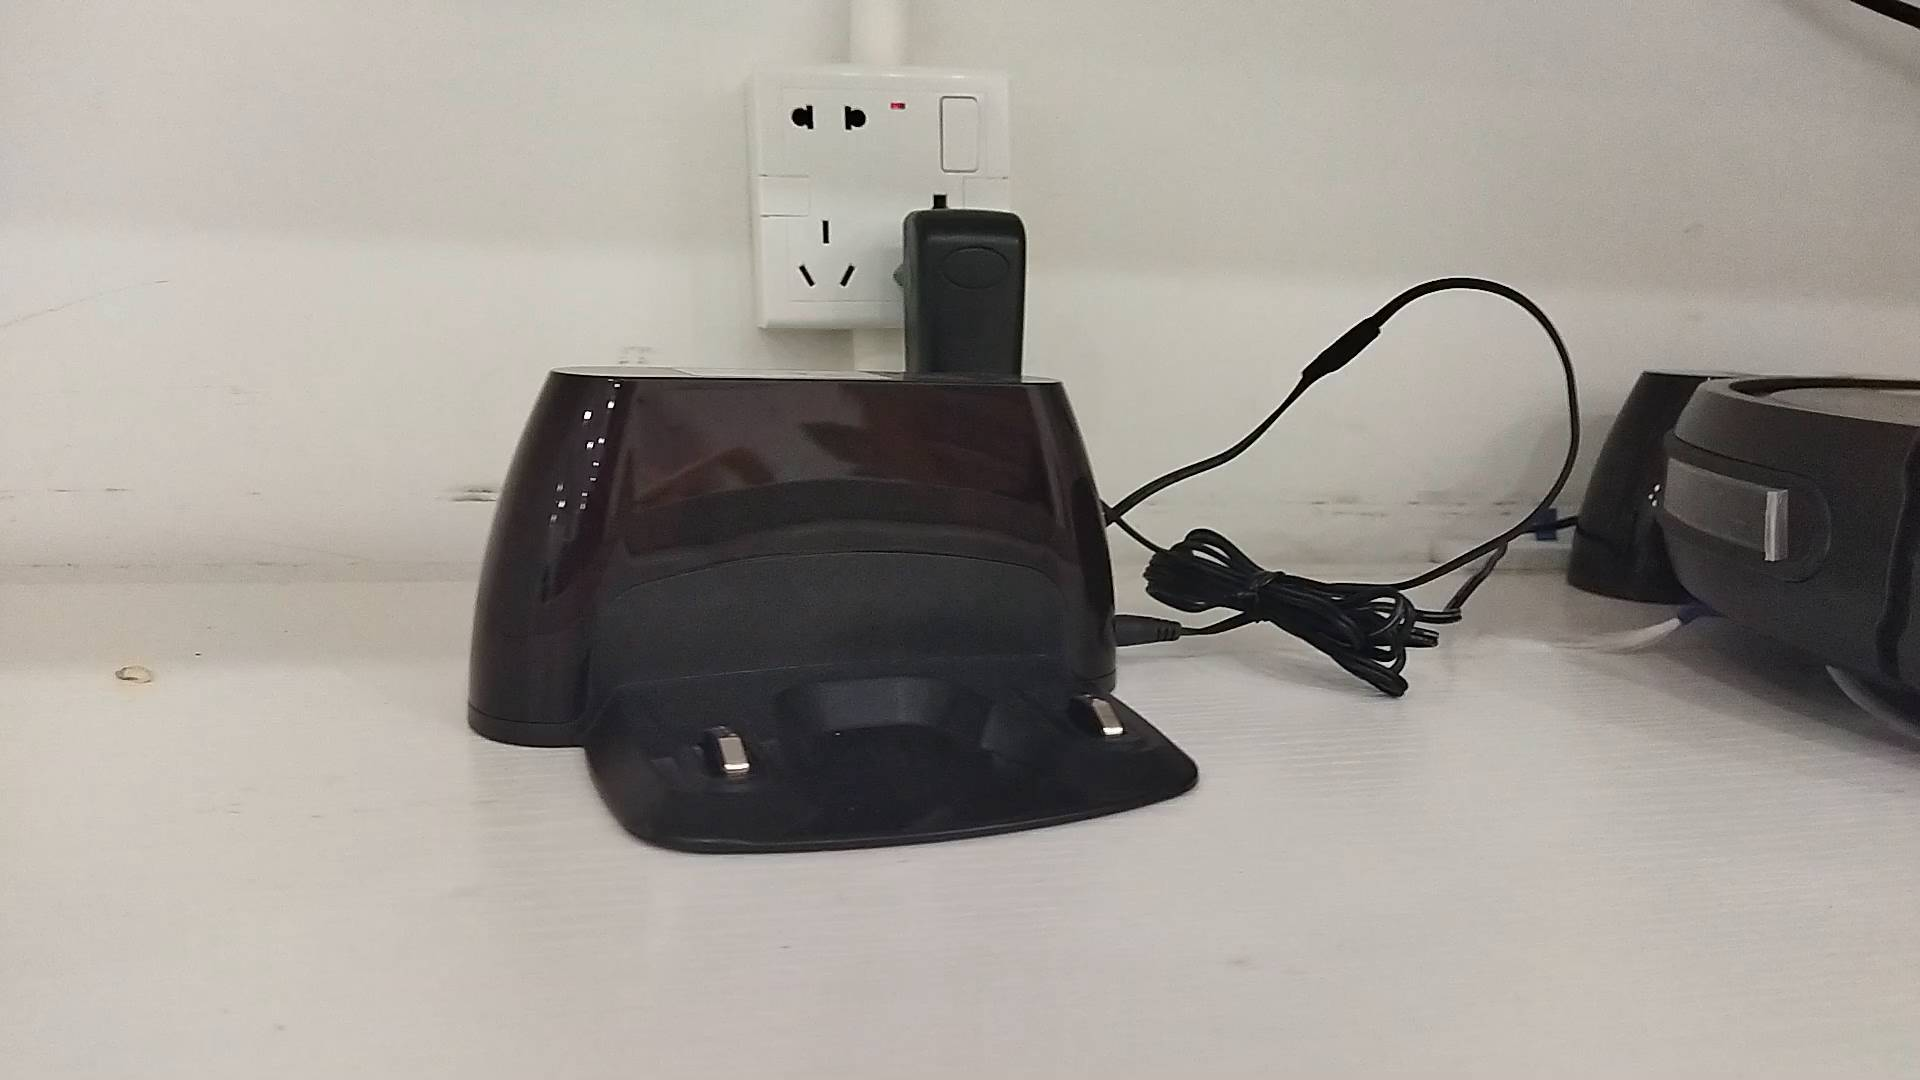recharge seat: (472, 365, 1201, 858)
